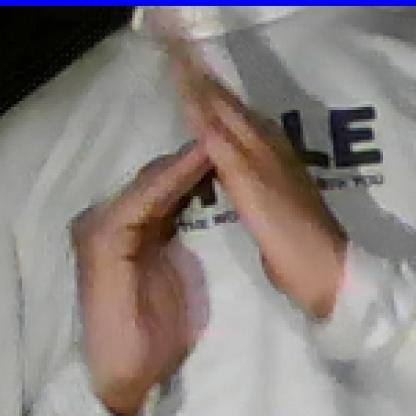Z: (46, 17, 346, 388)
